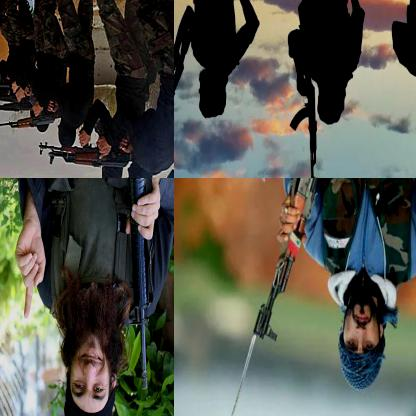rifle: (253, 178, 338, 344), (110, 178, 173, 396), (287, 72, 320, 177), (0, 95, 66, 138), (49, 144, 132, 165), (174, 41, 190, 141), (34, 134, 92, 157), (0, 88, 43, 115)
